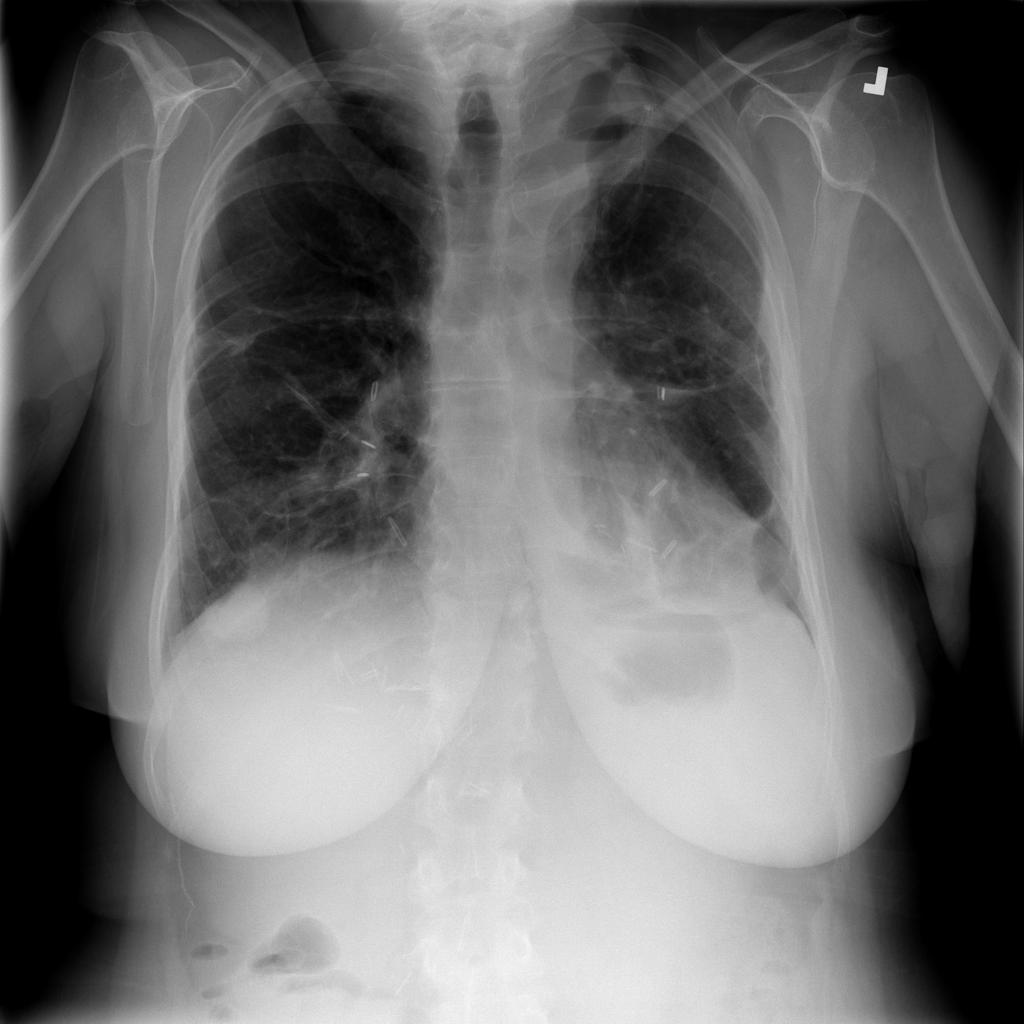nodule: (186, 554, 295, 662)
